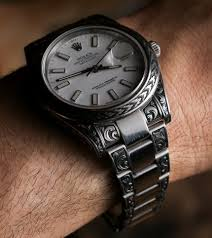clock: (39, 27, 147, 109)
